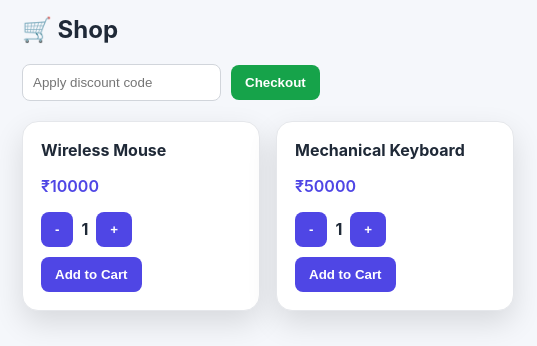
Test: Shop Page › increase and decrease quantity
Expected: the heading "Wireless Mouse" is shown, [41, 140, 166, 160]
Step 1. Click the button "+" below "10000" → x=114, y=229, box [96, 212, 132, 247]
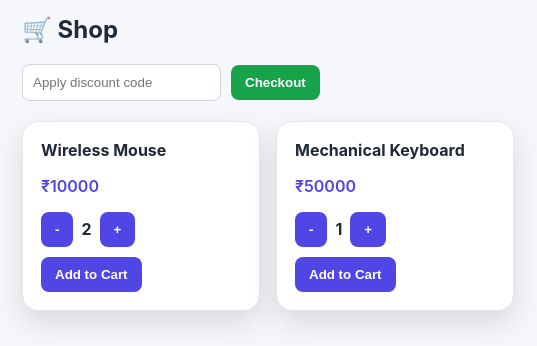
Expected: the text "2" is shown, [82, 219, 92, 239]
Step 2. Click the button "-" below "10000" → x=57, y=229, box [41, 212, 74, 247]
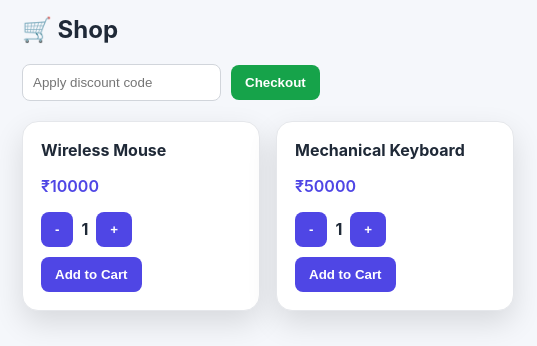
Expected: the text "1" below "10000" is shown, [82, 219, 88, 239]
